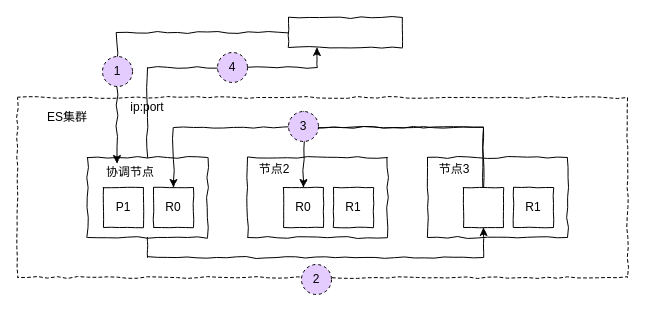
This 645x312 diagram has some shape labels left out. Each missing label, with the centre of its shape:
"P0" goes at point (483, 207).
"客户端" goes at point (345, 32).
